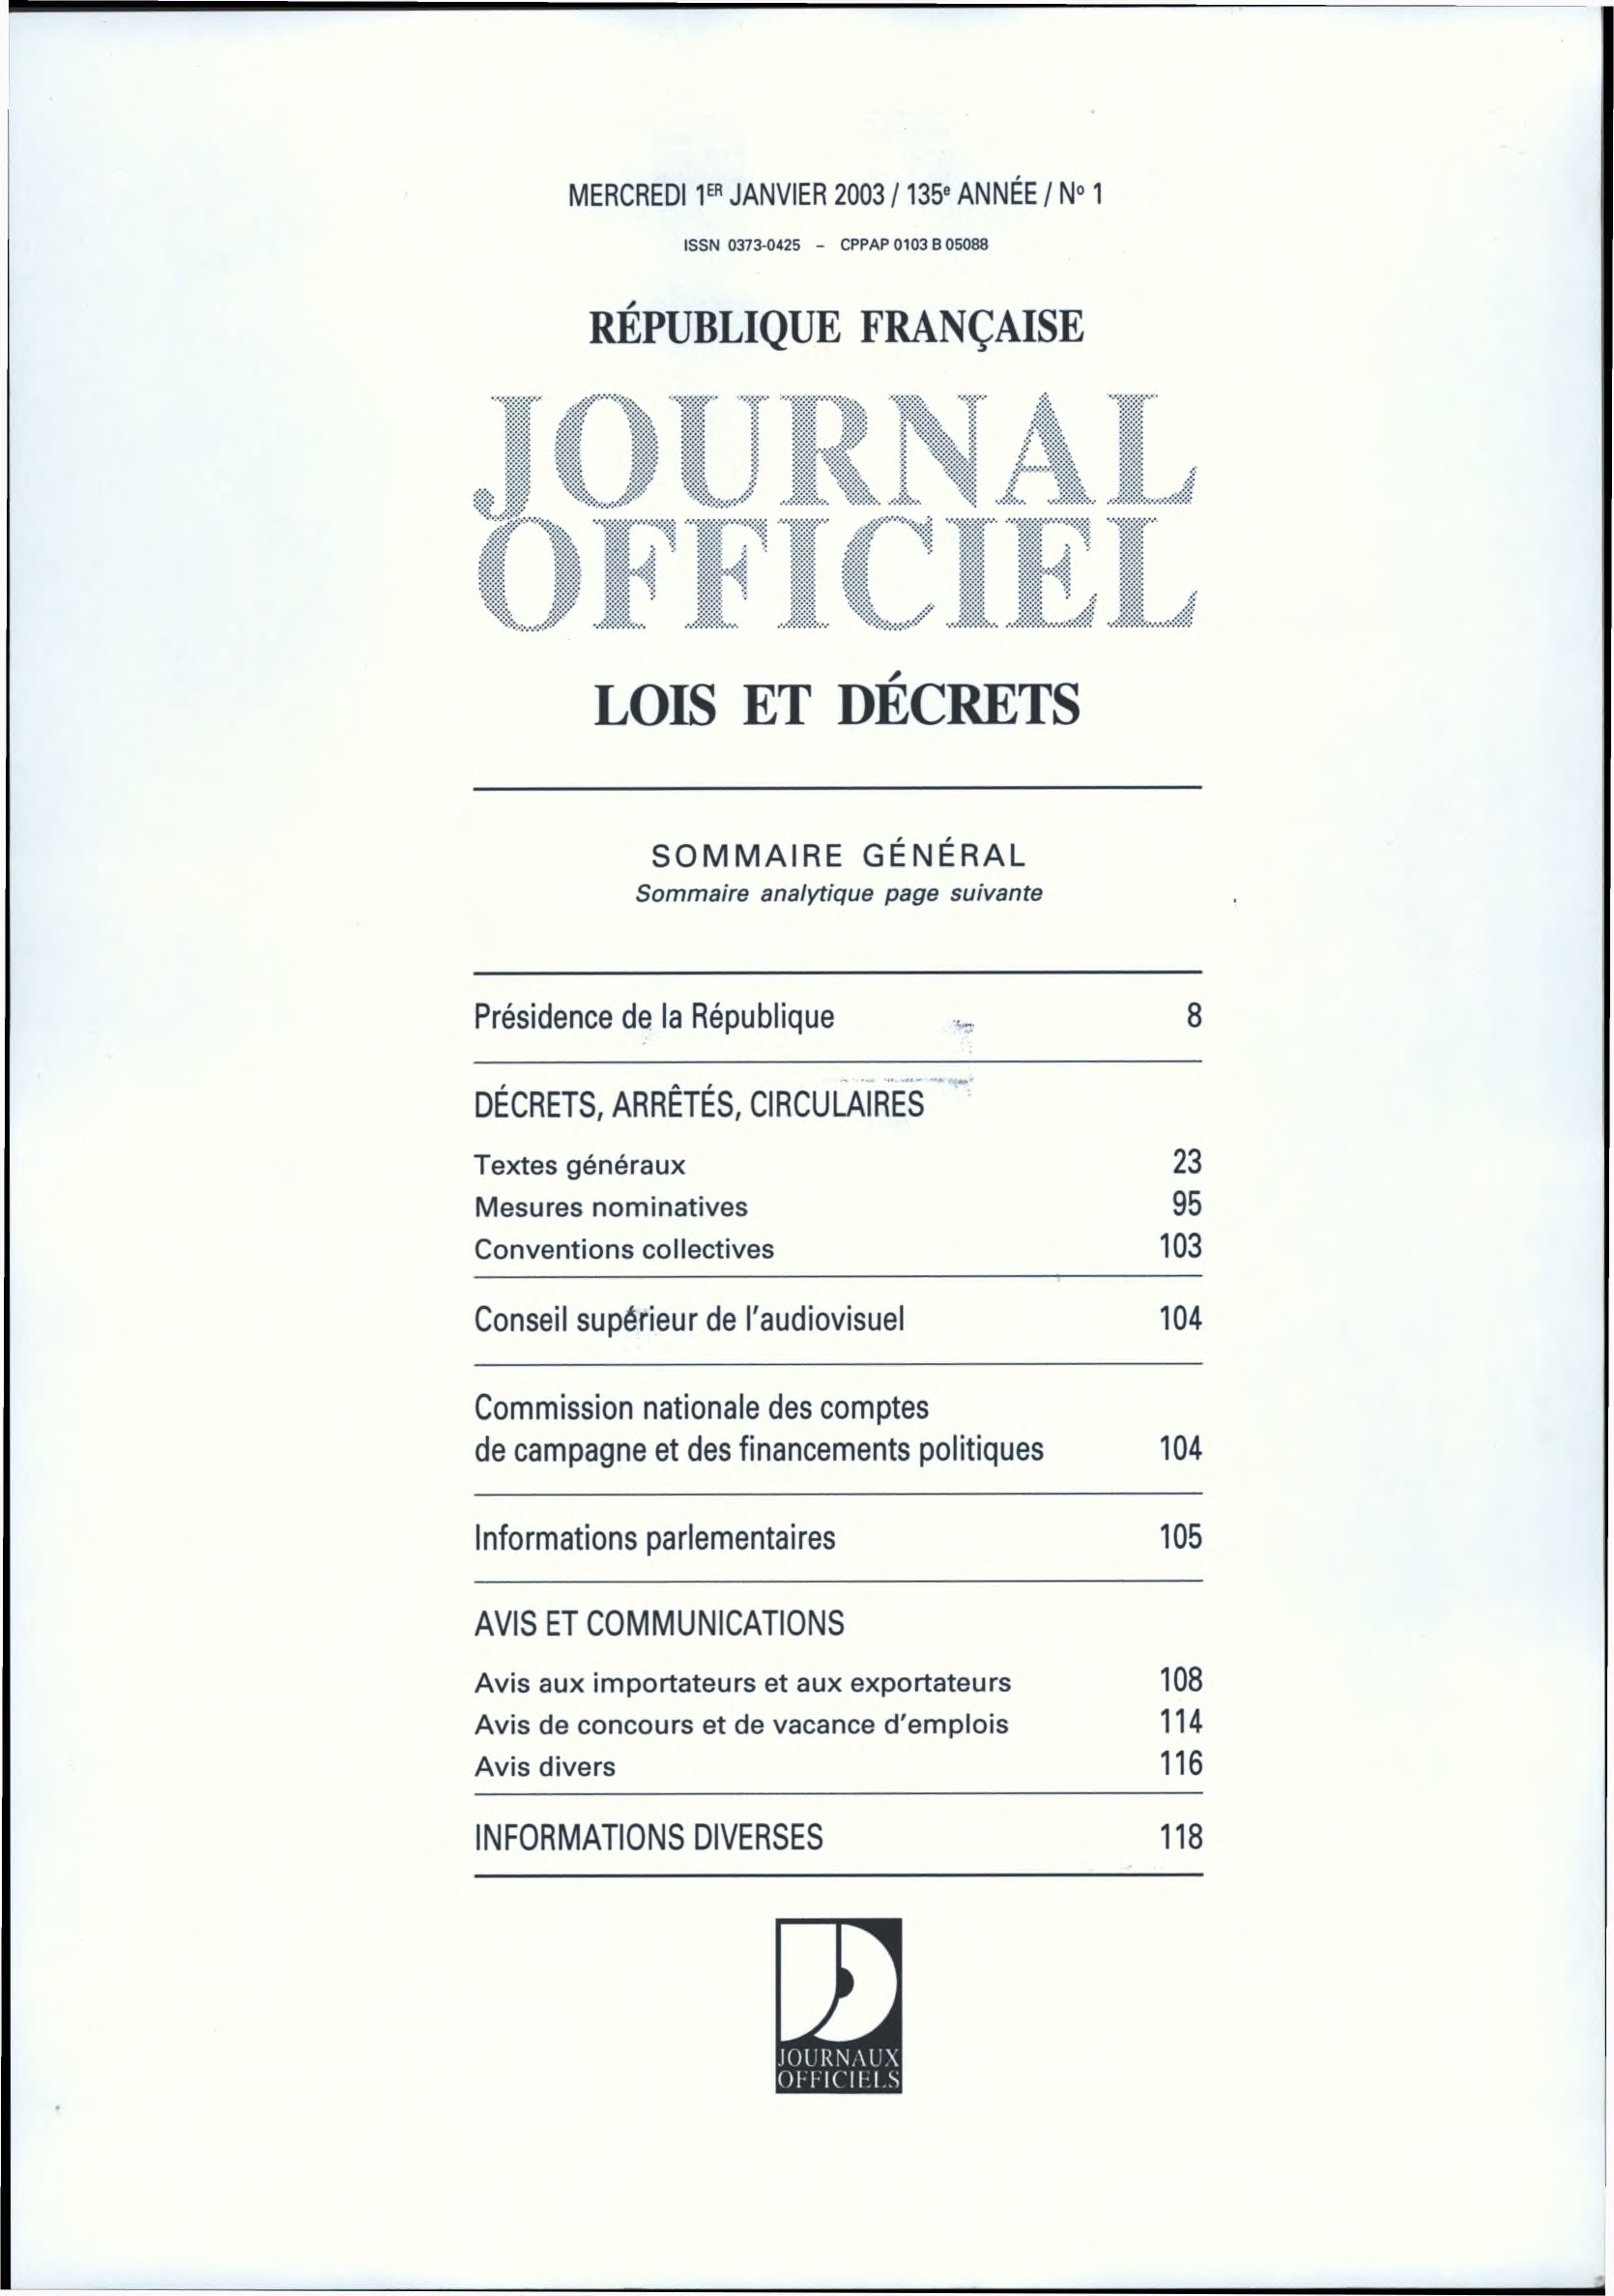GraphicZone: (748, 1903, 928, 2111)
TitlePageZone: (412, 117, 1268, 2001)
